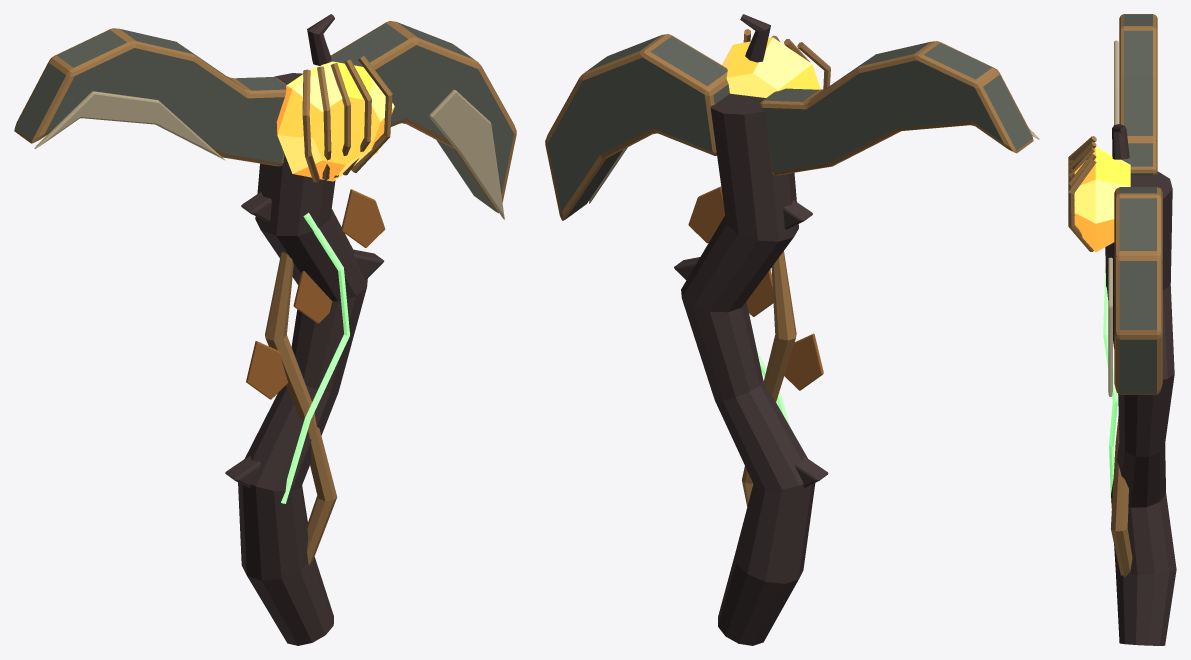
The model's file is BH_PICK_P05_Colheita_Sombria_V02.glb.
3 views of the same model, side by side, from view 1: azimuth 30°, elevation 25°; view 2: azimuth 150°, elevation 25°; view 3: azimuth 270°, elevation 25° (orthographic). The views are drawn at different scales.
Visible parts, largest first — view 1: P05 | twisted root haft.001, P05 | long reaping talon.001, P05 | opposing hook.001, P05 | amber heart.001, P05 | split root strand.001, P05 | short hook edge.001, P05 | long talon cutting edge.001, P05 | vine of harvest.001, P05 | dry leaf.005, P05 | dry leaf.003, P05 | dry leaf.004, P05 | pumpkin cage rib 4.001 (+4 smaller); view 2: P05 | twisted root haft.001, P05 | long reaping talon.001, P05 | opposing hook.001, P05 | amber heart.001, P05 | split root strand.001, P05 | dry leaf.003, P05 | dry leaf.005, P05 | crown stem.001, P05 | dry leaf.004; view 3: P05 | twisted root haft.001, P05 | opposing hook.001, P05 | long reaping talon.001, P05 | amber heart.001, P05 | split root strand.001, P05 | vine of harvest.001, P05 | short hook edge.001, P05 | pumpkin cage rib 4.001, P05 | crown stem.001, P05 | long talon cutting edge.001, P05 | pumpkin cage rib 1.001, P05 | pumpkin cage rib 3.001 (+2 smaller).
Boxes of the visible parts, box(x1,y1,x2,y2) form: P05 | twisted root haft.001: box(238, 73, 367, 645); P05 | long reaping talon.001: box(14, 28, 286, 166); P05 | opposing hook.001: box(329, 21, 516, 213); P05 | amber heart.001: box(276, 61, 394, 181); P05 | split root strand.001: box(265, 251, 337, 565); P05 | short hook edge.001: box(429, 89, 504, 219); P05 | long talon cutting edge.001: box(34, 91, 225, 160); P05 | vine of harvest.001: box(281, 212, 349, 503); P05 | dry leaf.005: box(341, 189, 385, 247); P05 | dry leaf.003: box(246, 341, 287, 399); P05 | dry leaf.004: box(293, 271, 332, 323); P05 | pumpkin cage rib 4.001: box(351, 55, 392, 172); P05 | twisted root haft.001: box(681, 93, 815, 645); P05 | long reaping talon.001: box(759, 41, 1033, 175); P05 | opposing hook.001: box(545, 34, 729, 220); P05 | amber heart.001: box(722, 37, 820, 97); P05 | split root strand.001: box(742, 251, 796, 506); P05 | dry leaf.003: box(784, 333, 823, 390); P05 | dry leaf.005: box(688, 186, 724, 243); P05 | crown stem.001: box(740, 14, 770, 62); P05 | dry leaf.004: box(746, 269, 773, 316); P05 | twisted root haft.001: box(1105, 171, 1176, 645); P05 | opposing hook.001: box(1114, 187, 1162, 394); P05 | long reaping talon.001: box(1119, 14, 1157, 175); P05 | amber heart.001: box(1074, 146, 1130, 251); P05 | split root strand.001: box(1110, 416, 1132, 576); P05 | vine of harvest.001: box(1103, 268, 1117, 501); P05 | short hook edge.001: box(1108, 257, 1112, 396); P05 | pumpkin cage rib 4.001: box(1068, 159, 1096, 251); P05 | crown stem.001: box(1112, 124, 1129, 159); P05 | long talon cutting edge.001: box(1114, 40, 1118, 124); P05 | pumpkin cage rib 1.001: box(1068, 141, 1096, 207); P05 | pumpkin cage rib 3.001: box(1068, 153, 1096, 223).
Bounding box in the file's own units: 2.44 × 3.14 × 0.563.
